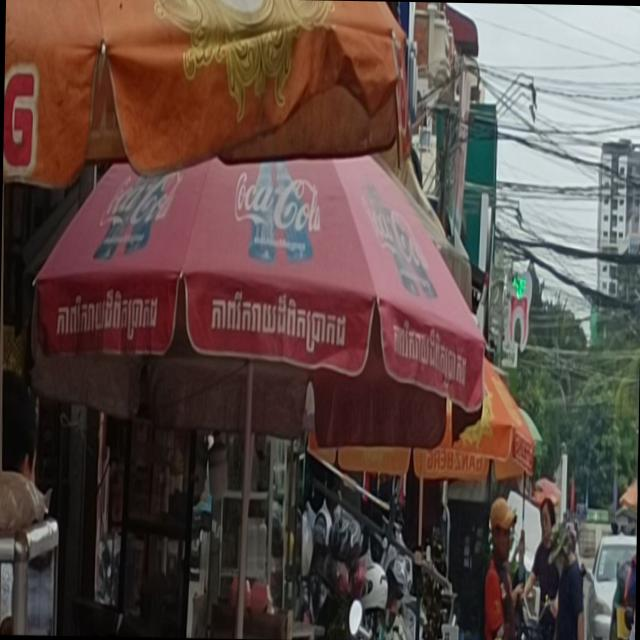Yolov11kh: (207, 281, 352, 362), (53, 280, 165, 348), (389, 308, 471, 398)
